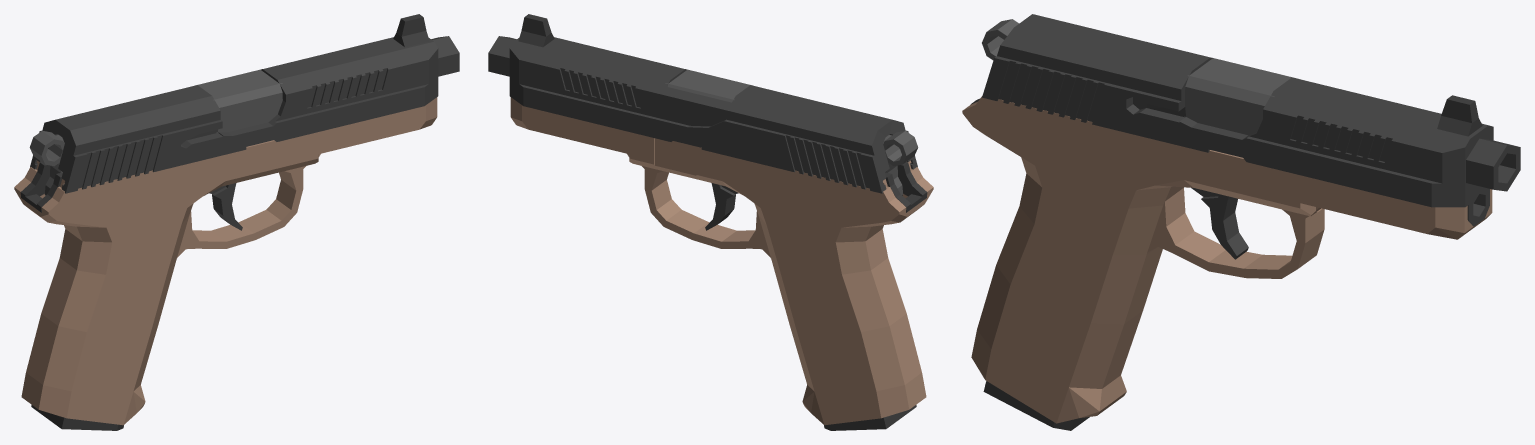
The model's file is minecraft HANDGUN.fbx.
3 views of the same model, side by side, from view 1: azimuth 30°, elevation 25°; view 2: azimuth 150°, elevation 25°; view 3: azimuth 330°, elevation 25° (orthographic). The views are drawn at different scales.
Parts seen in each view (by area): view 1: Cube.008_Material.003_0; view 2: Cube.008_Material.003_0; view 3: Cube.008_Material.003_0.
Part boxes in pixels (x1,y1,x2,y2): Cube.008_Material.003_0: (14, 14, 459, 430); Cube.008_Material.003_0: (488, 14, 933, 430); Cube.008_Material.003_0: (962, 14, 1520, 430).
Size of the model in its own units: 4.7 by 3.52 by 0.6955.
